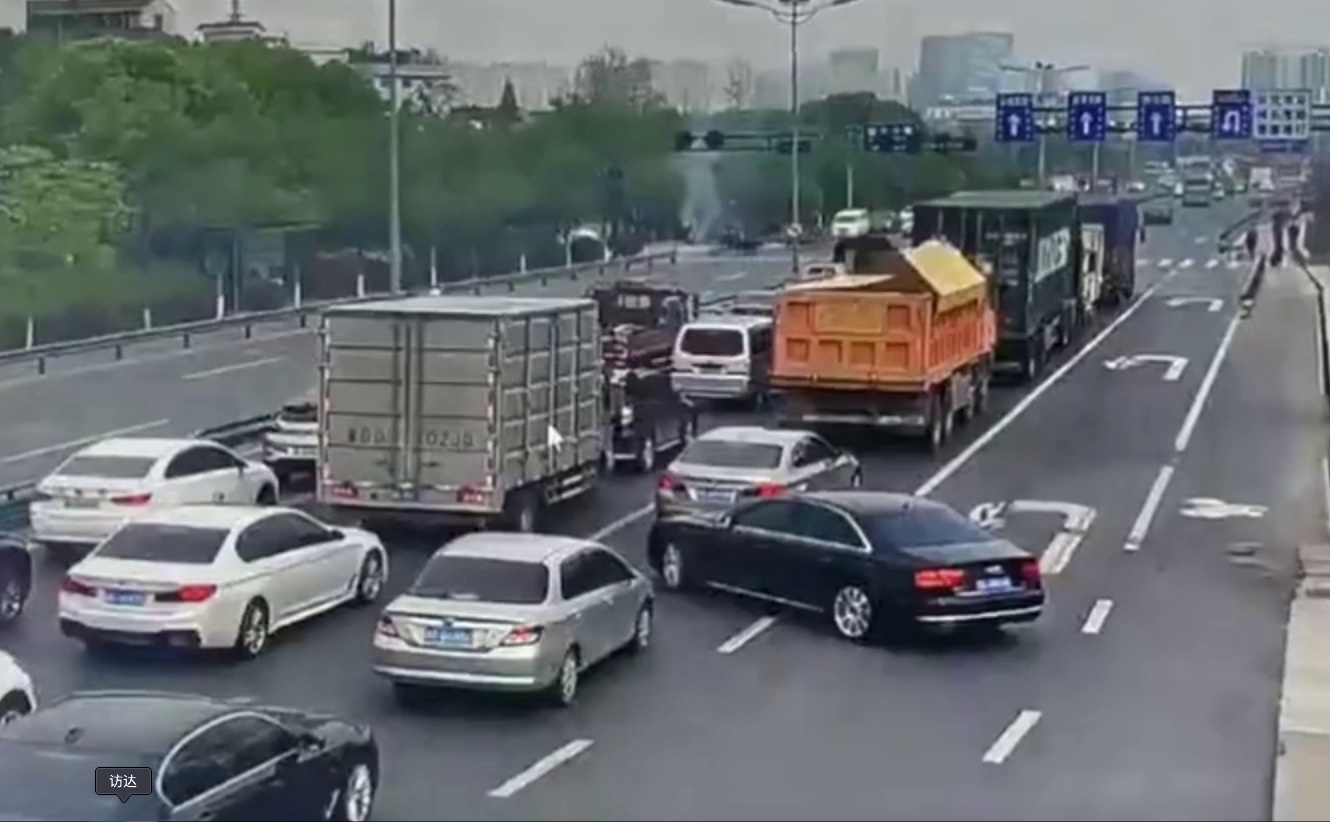smoke: (678, 133, 724, 243)
